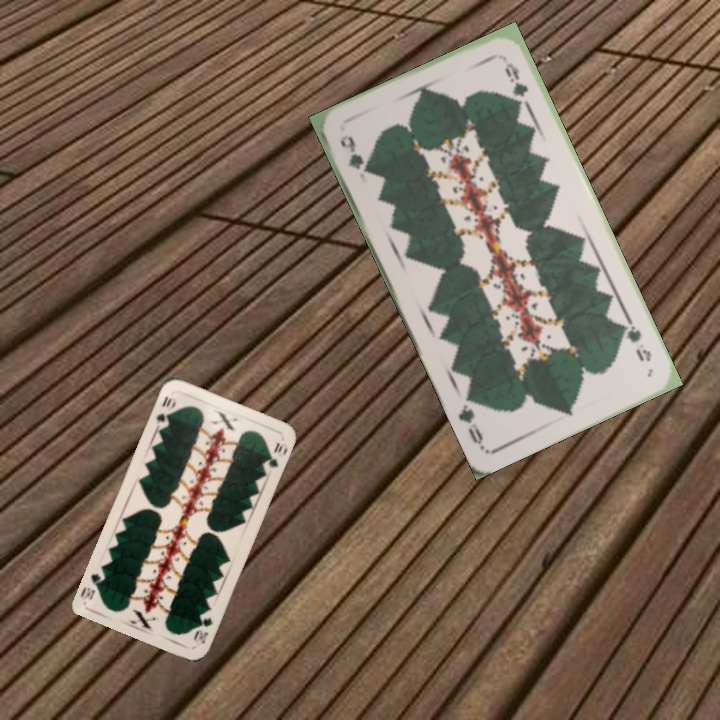G10: (152, 392, 178, 428), (189, 613, 216, 646)
G9: (617, 315, 654, 364), (336, 132, 372, 177)
